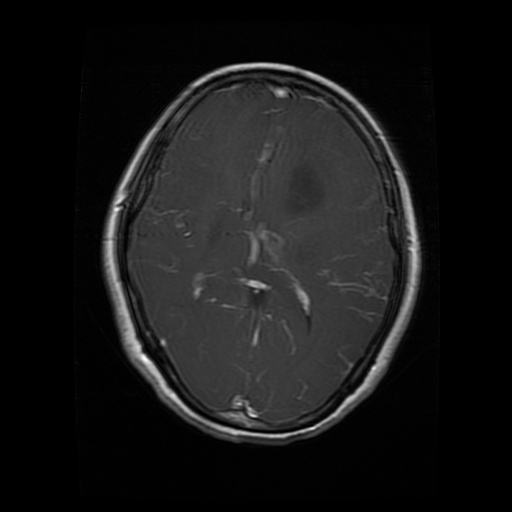glioma: (284, 158, 329, 215)
